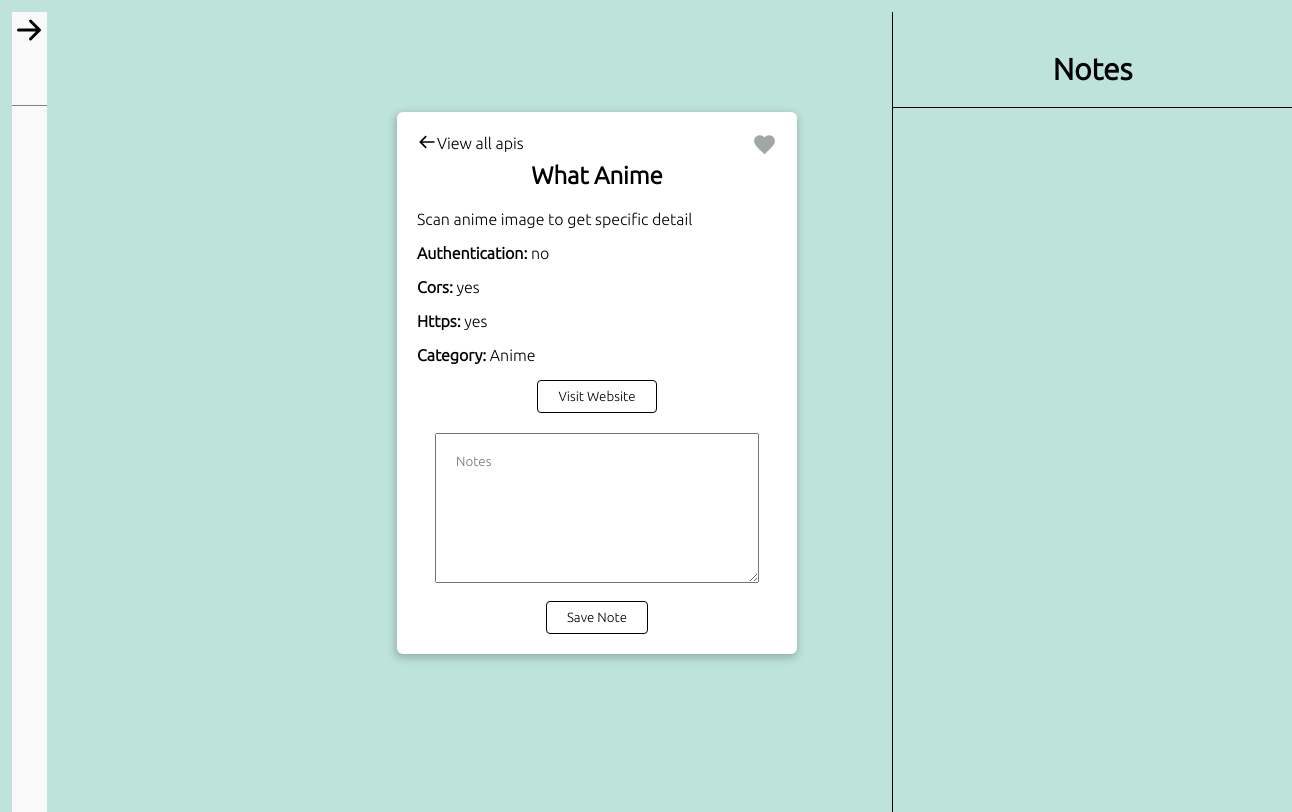
Scenario: Selected API page › Should be able to save a note
Type "Create an app where Anyone can scan in an anime character" into the text box with class "featured-card__notes" at (597, 508), box [435, 433, 759, 583]
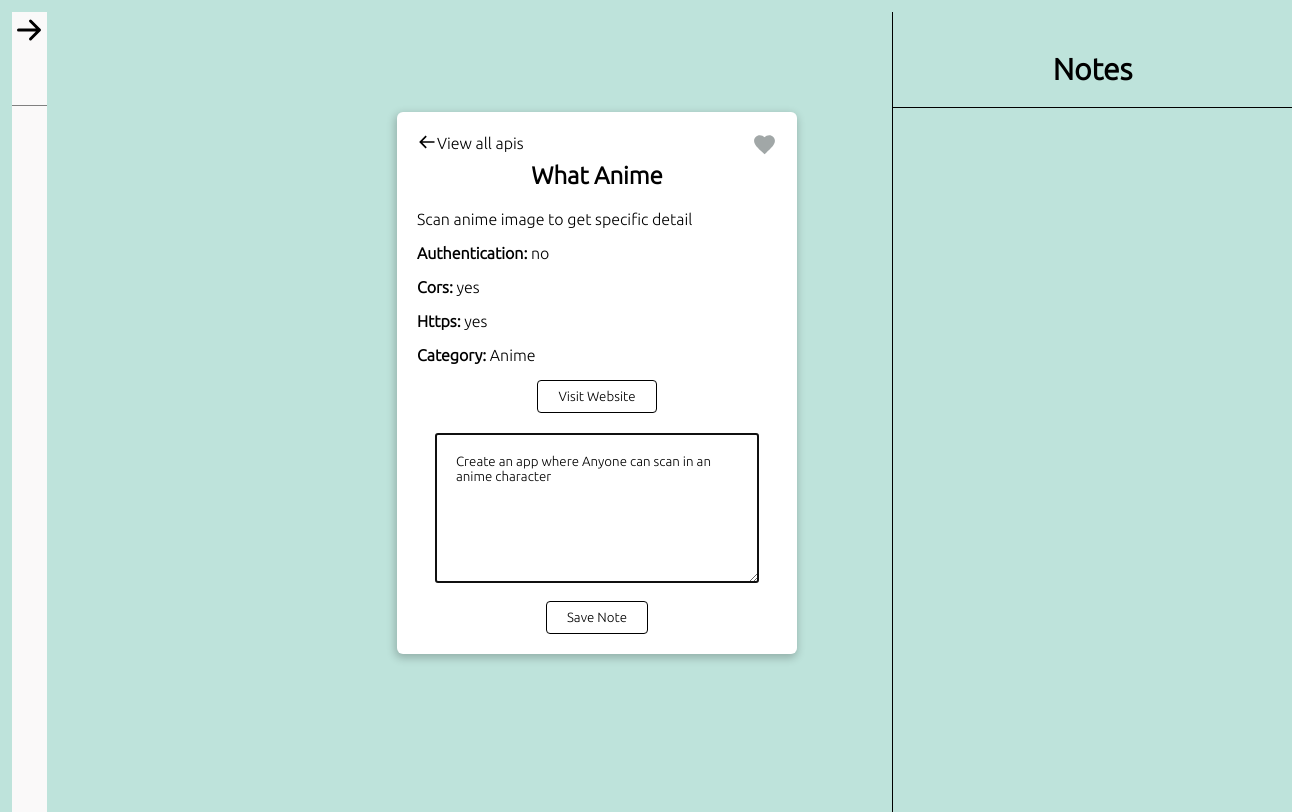
Click the button with class "save-note__btn" at (597, 618), box [546, 601, 648, 634]
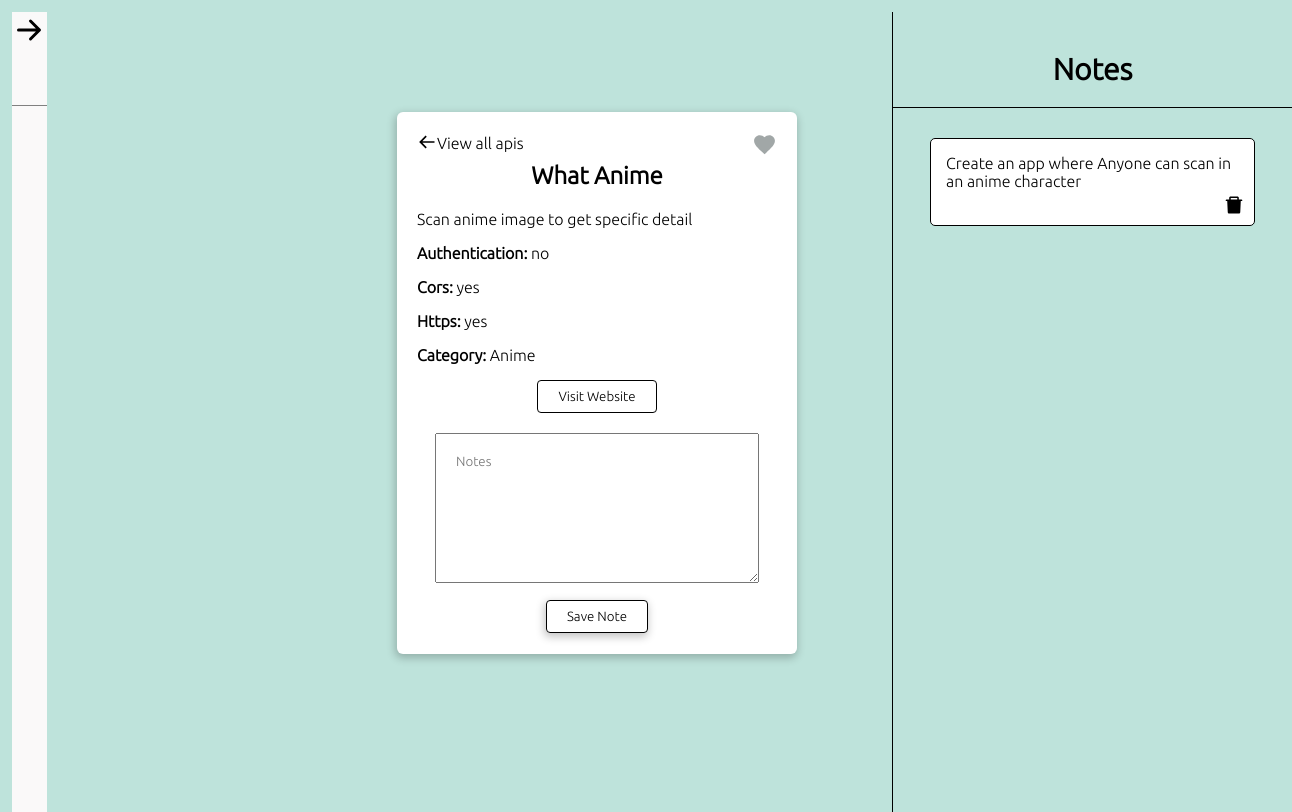
Check: the text "Create an app where Anyone can scan in an anime character" is shown, box [946, 154, 1239, 190]
